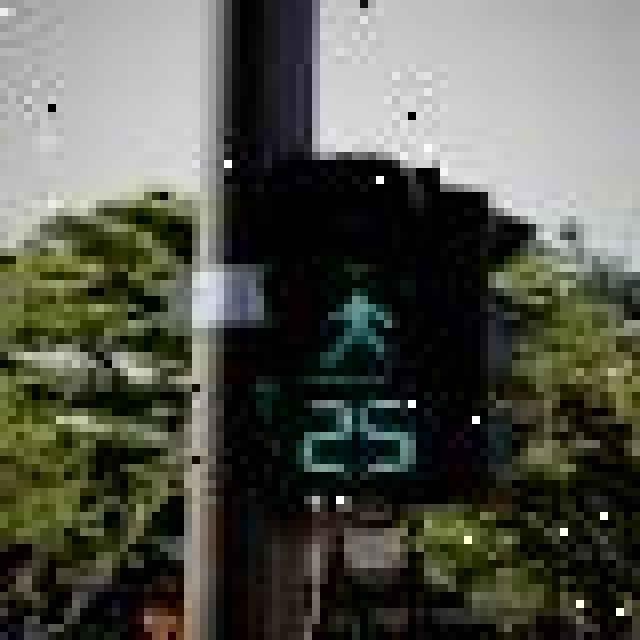greenlight: (272, 144, 440, 384)
